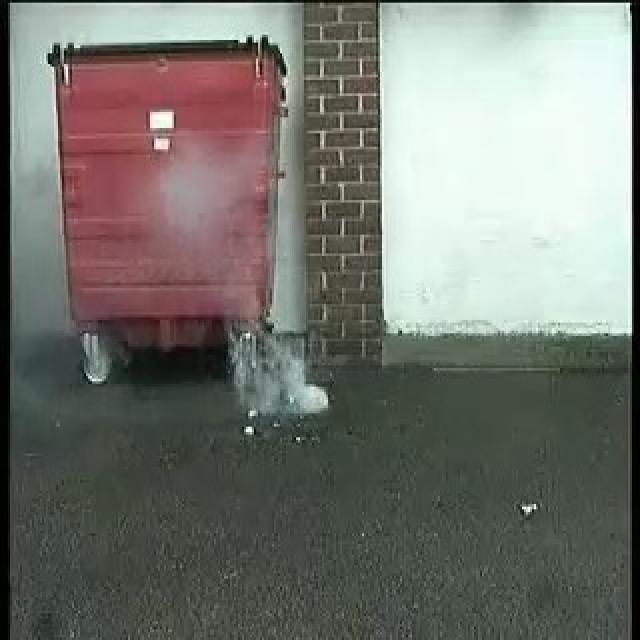smoke: (204, 256, 333, 423)
